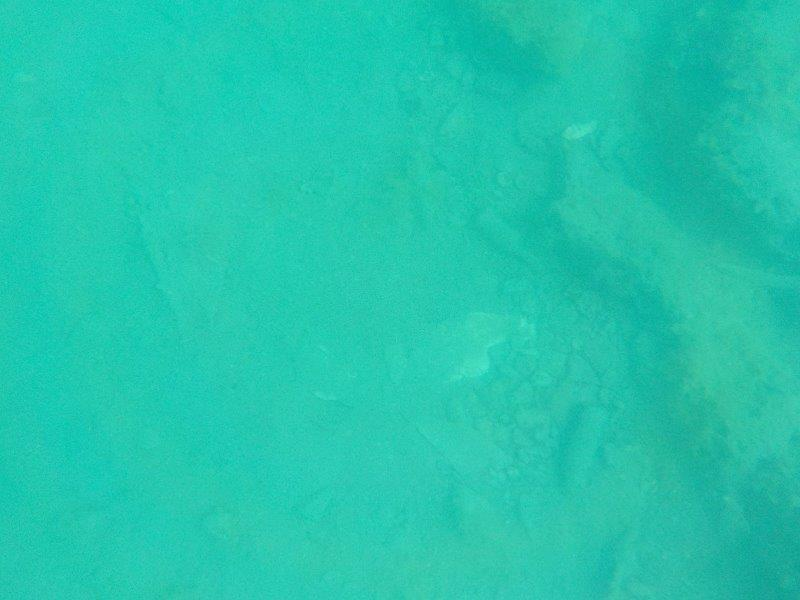bottle: (555, 390, 613, 507), (465, 201, 549, 274)
